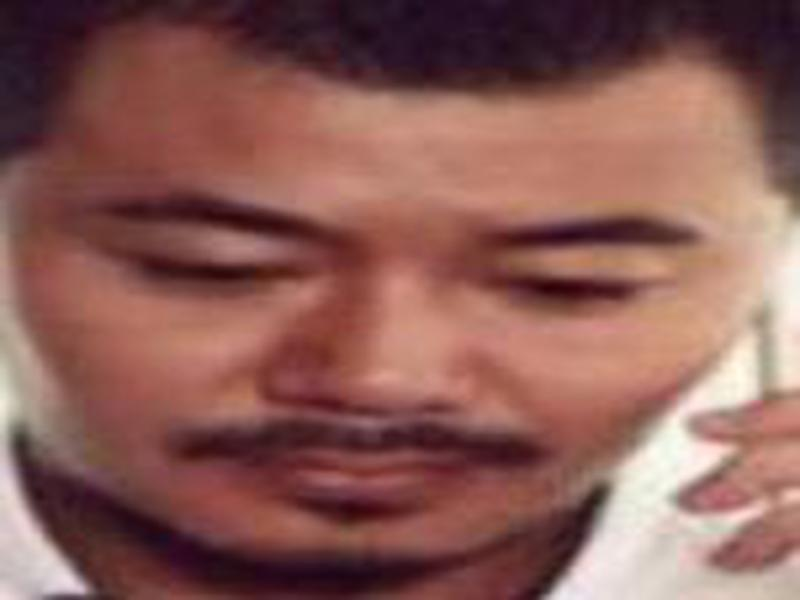without_mask: (42, 101, 738, 576)
